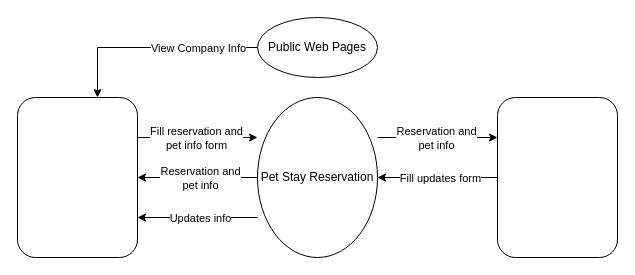
Some shapes in this 635 by 275 pixel diagram are drawn without their labels. Each missing label, with the box of its shape:
Employee: (496, 96, 618, 258)
Pet Owner: (16, 96, 138, 258)
